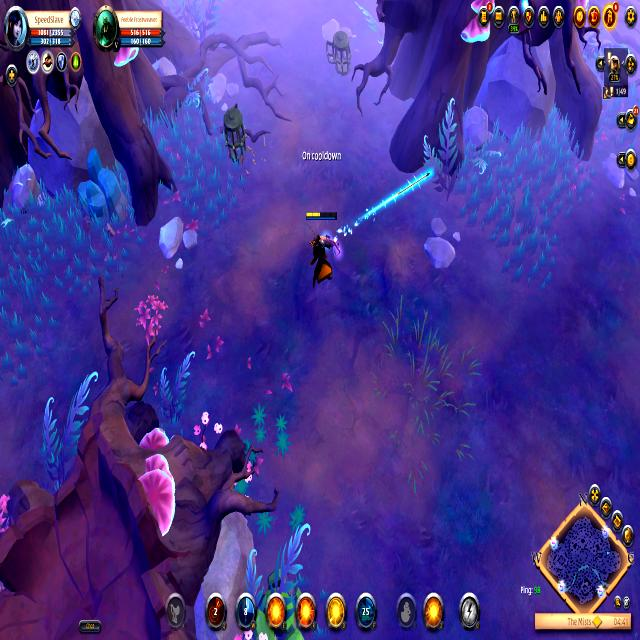red: (301, 205, 341, 290)
